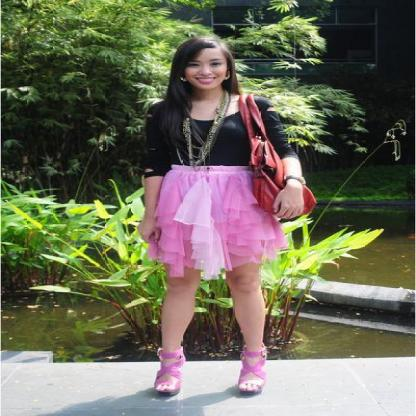bag: (238, 108, 316, 224)
shirt: (124, 95, 290, 176)
shoe: (145, 341, 270, 401)
skirt: (147, 158, 291, 279)
